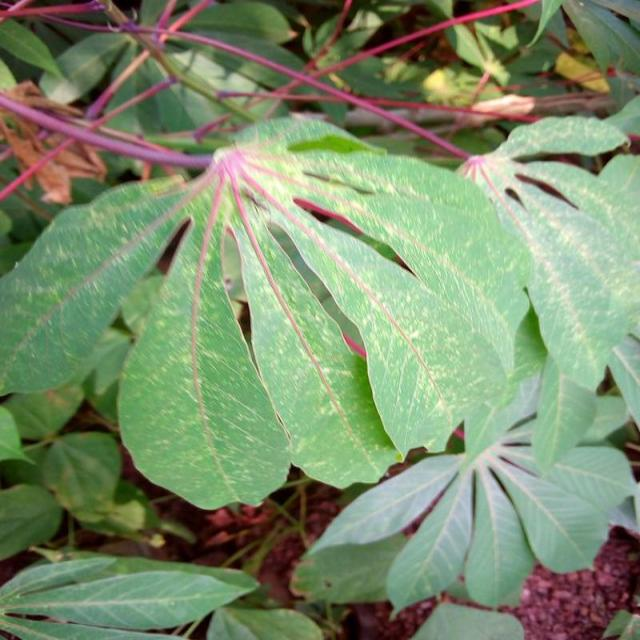cassava leaf: (1, 114, 542, 510)
